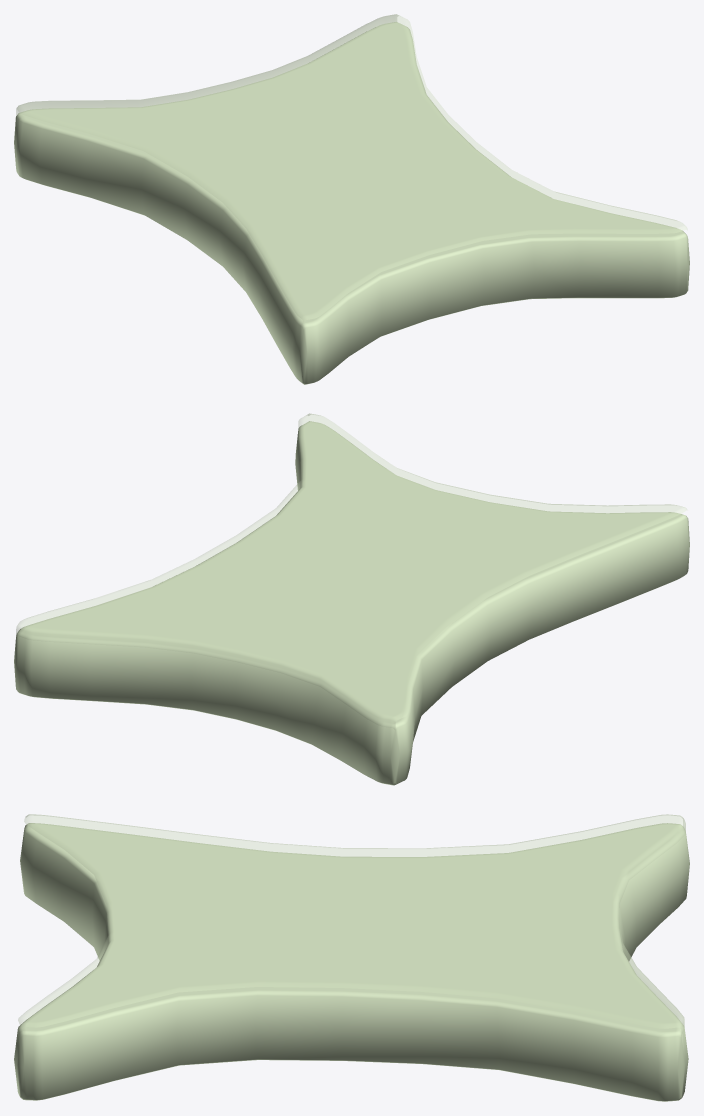
The model's file is Sitoplasma_Solo.glb.
3 renders of one model, top to bottom at view 1: azimuth 30°, elevation 25°; view 2: azimuth 150°, elevation 25°; view 3: azimuth 270°, elevation 25°, orthographic. The views are drawn at different scales.
Parts seen in each view (by area): view 1: Cube.004, Cube.007; view 2: Cube.004, Cube.007; view 3: Cube.004, Cube.007.
Part boxes in pixels (box(x1,y1,x2,y2)): Cube.004: box(14, 22, 689, 384); Cube.007: box(16, 14, 687, 321); Cube.004: box(14, 421, 689, 785); Cube.007: box(16, 413, 686, 729); Cube.004: box(14, 823, 689, 1101); Cube.007: box(18, 814, 685, 1035).
Bounding box in the file's own units: 1.93 × 0.3193 × 2.54.
